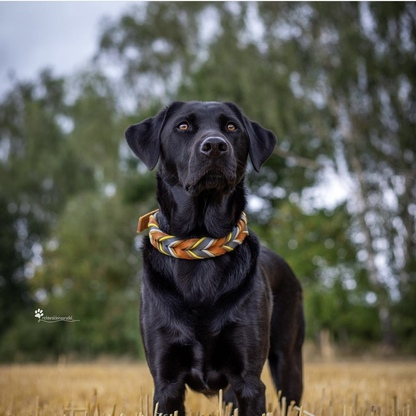labrado: (122, 95, 307, 416)
